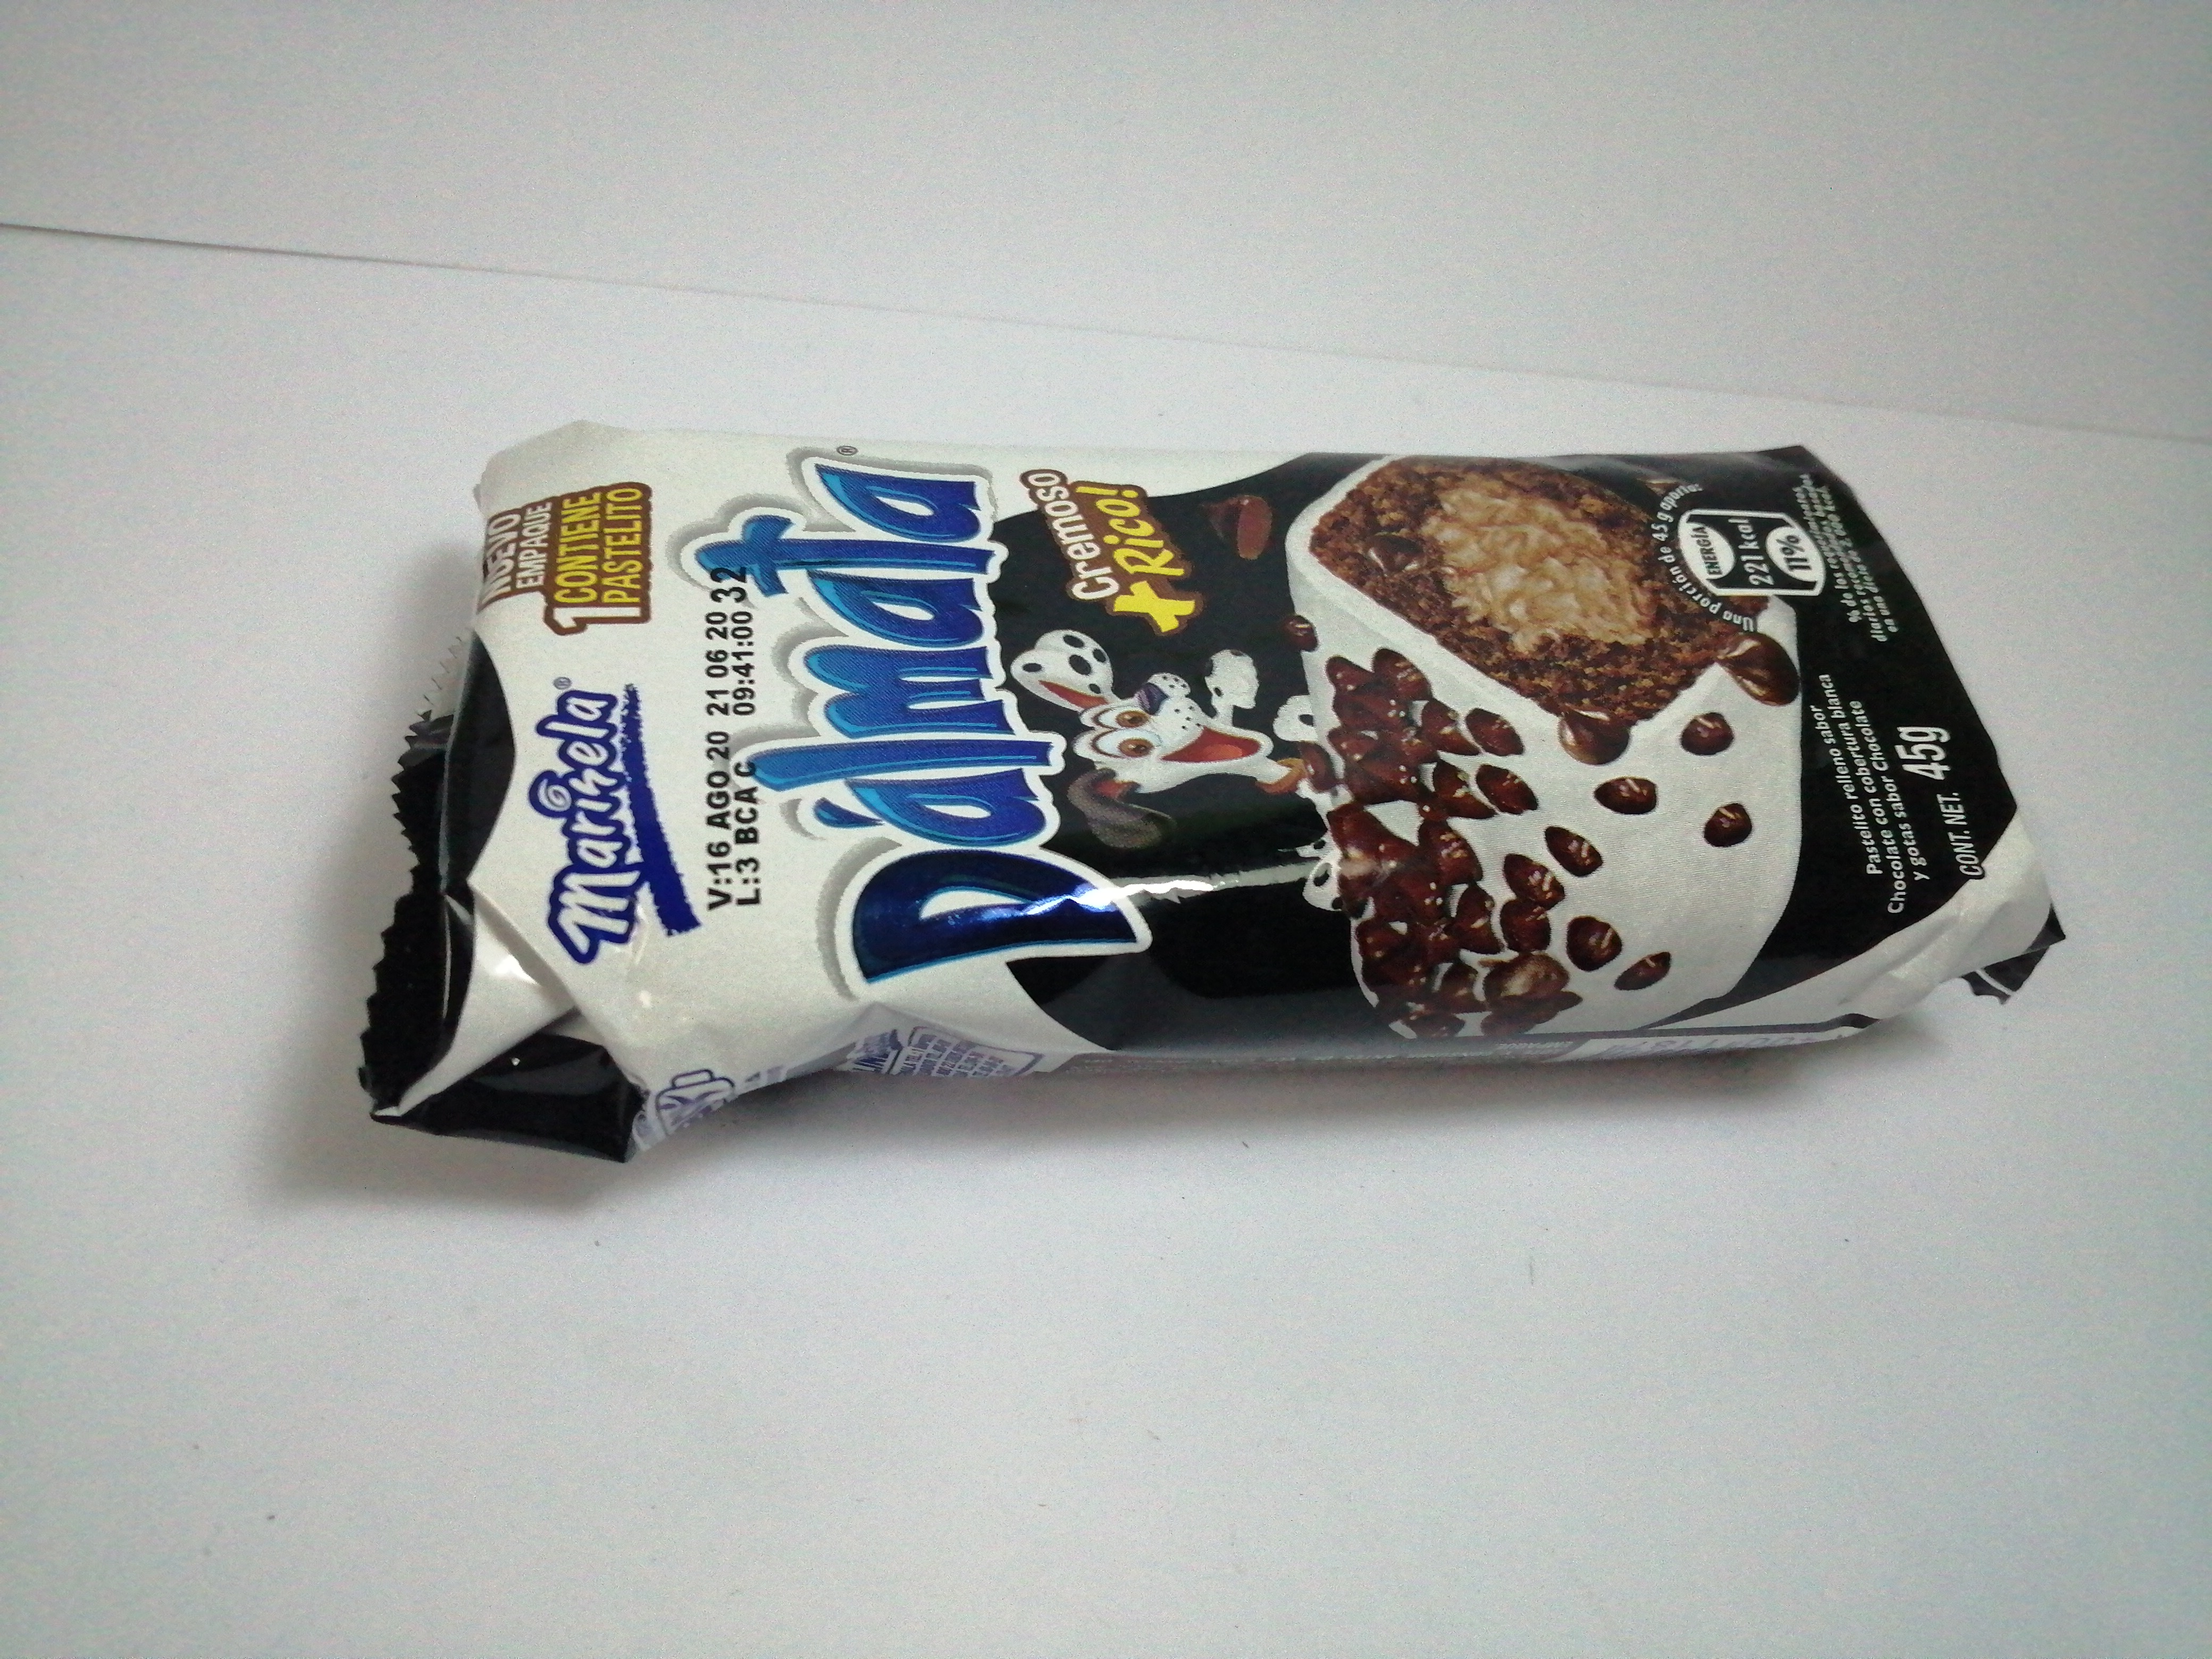dalmata: (354, 406, 2074, 1173)
